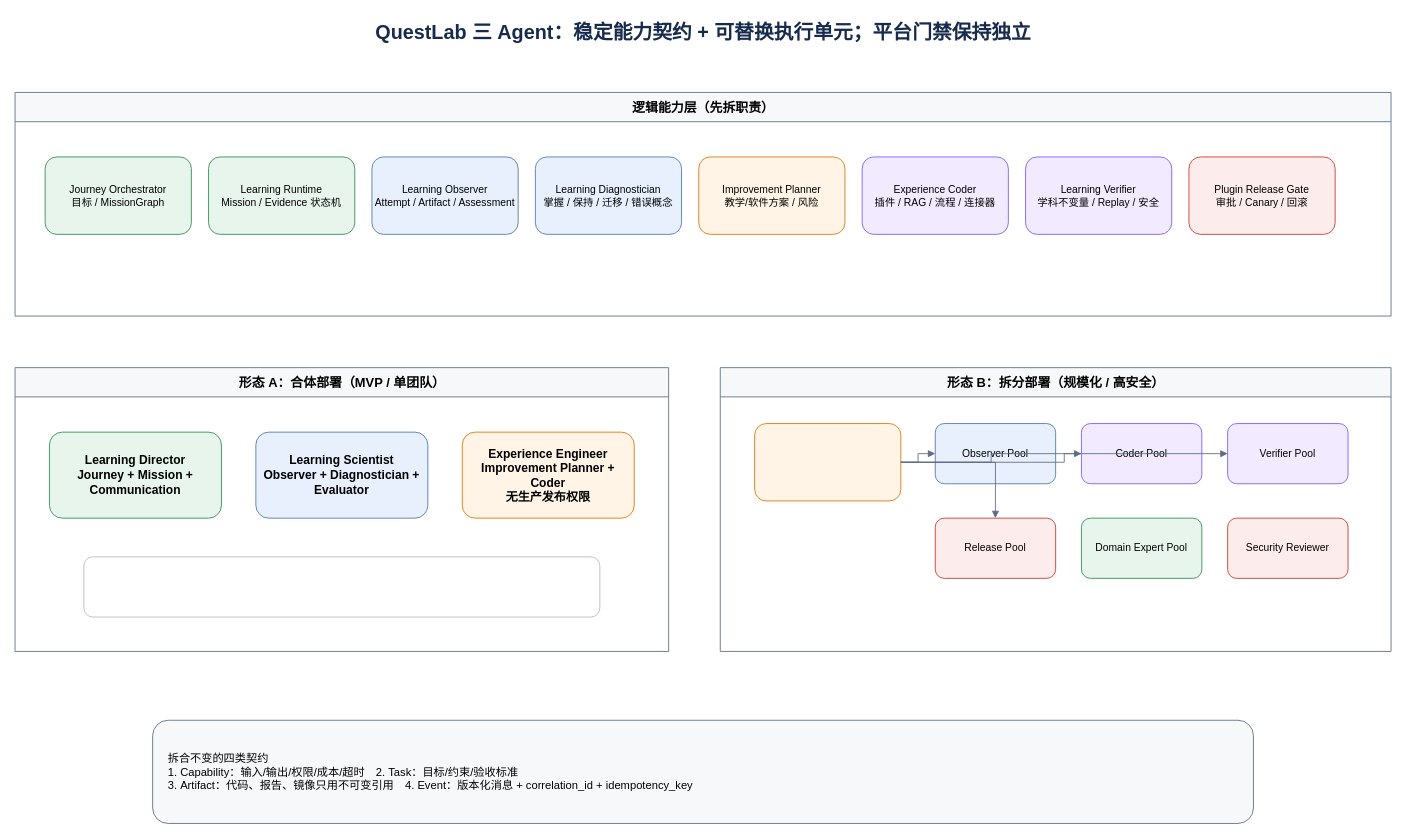
This 1406x839 diagram has some shape labels left out. The centre of each missing label's shape, as x and y in pixels:
"Orchestrator 只编排，不执行工具" goes at (x=827, y=462).
"优点：部署简单、上下文近、适合验证闭环。 约束：模块内部仍通过接口调用，禁止跨模块直接改库；未来拆分不重写业务协议。" goes at (x=341, y=586).
